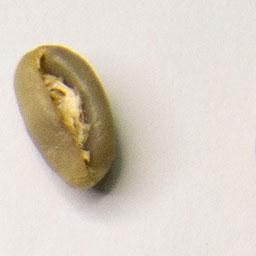longberry: (10, 39, 123, 196)
